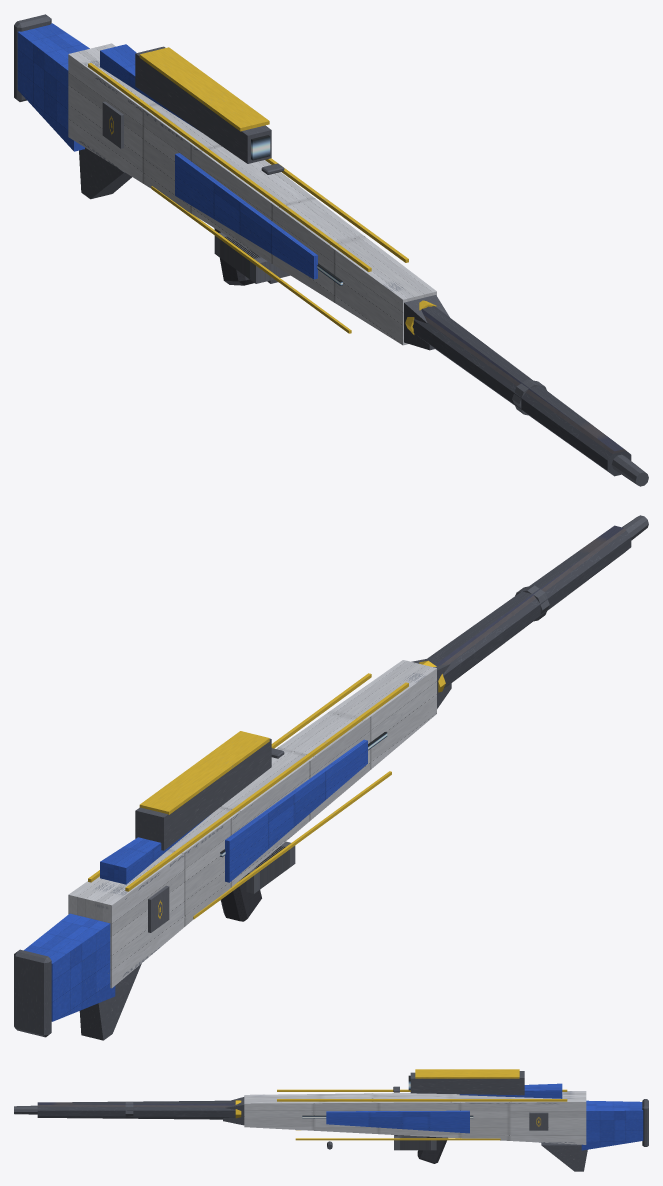
File: auc_sniper.obj
The picture shows the model from 3 angles, top to bottom: view 1: azimuth 30°, elevation 25°; view 2: azimuth 150°, elevation 25°; view 3: azimuth 270°, elevation 25°; orthographic projection. The views are drawn at different scales.
Parts seen in each view (by area): view 1: auc_sniper; view 2: auc_sniper; view 3: auc_sniper.
Boxes of the visible parts, x1,y1,x2,y2 form: auc_sniper: (14,14,648,486); auc_sniper: (14,515,648,1040); auc_sniper: (14,1069,648,1171).
Bounding box in the file's own units: 0.0725 × 0.222 × 1.34.
Materials: 1 (1 with a texture image).
